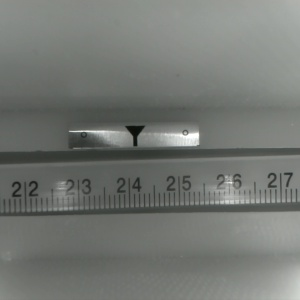2: (10, 181, 21, 197), (63, 179, 74, 194), (266, 172, 276, 188), (165, 176, 175, 191), (215, 174, 225, 189), (116, 177, 125, 193)
3: (80, 178, 91, 194)
4: (132, 177, 141, 192)
5: (182, 175, 191, 191)
6: (230, 173, 240, 188)
7: (283, 172, 293, 188)
finger: (123, 126, 145, 147)
